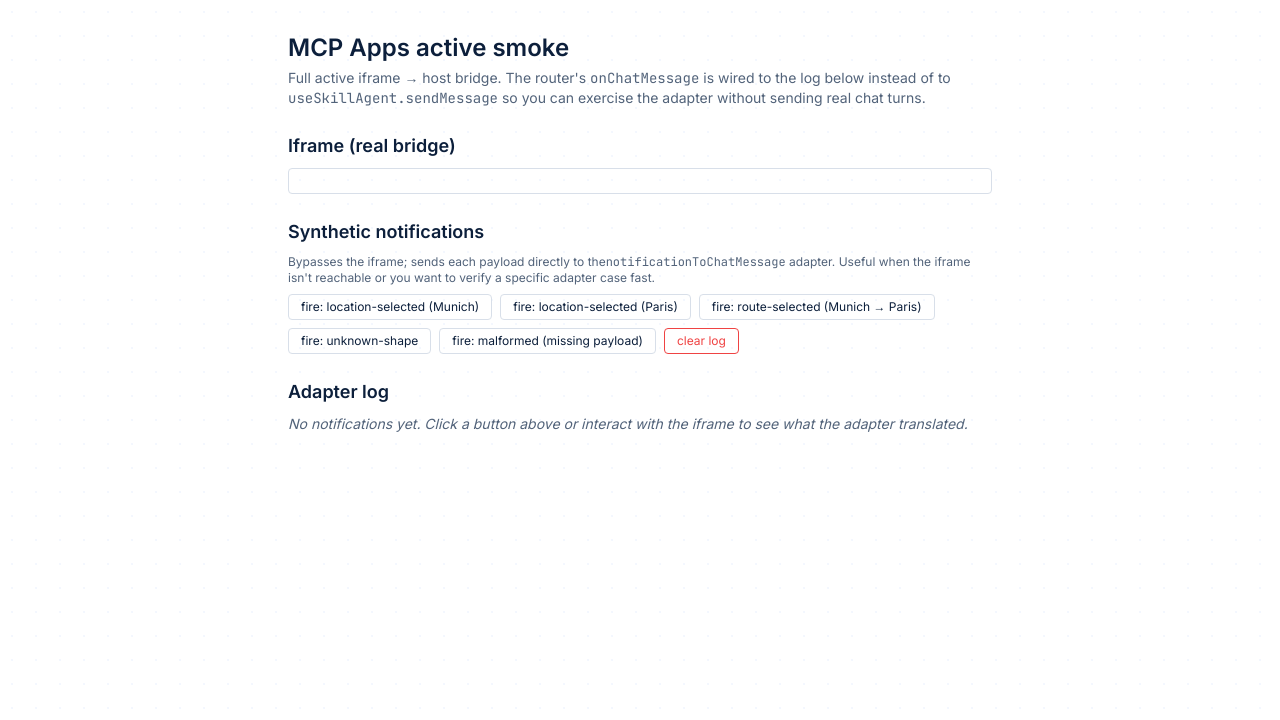
Test case: /dev/mcp-apps/active › location-selected button → adapter translates → 'Tell me more about Munich' in log
This screenshot has width=1280, height=720.
Click the button "fire: location-selected (Munich)".
click(390, 307)  # box [288, 294, 492, 320]
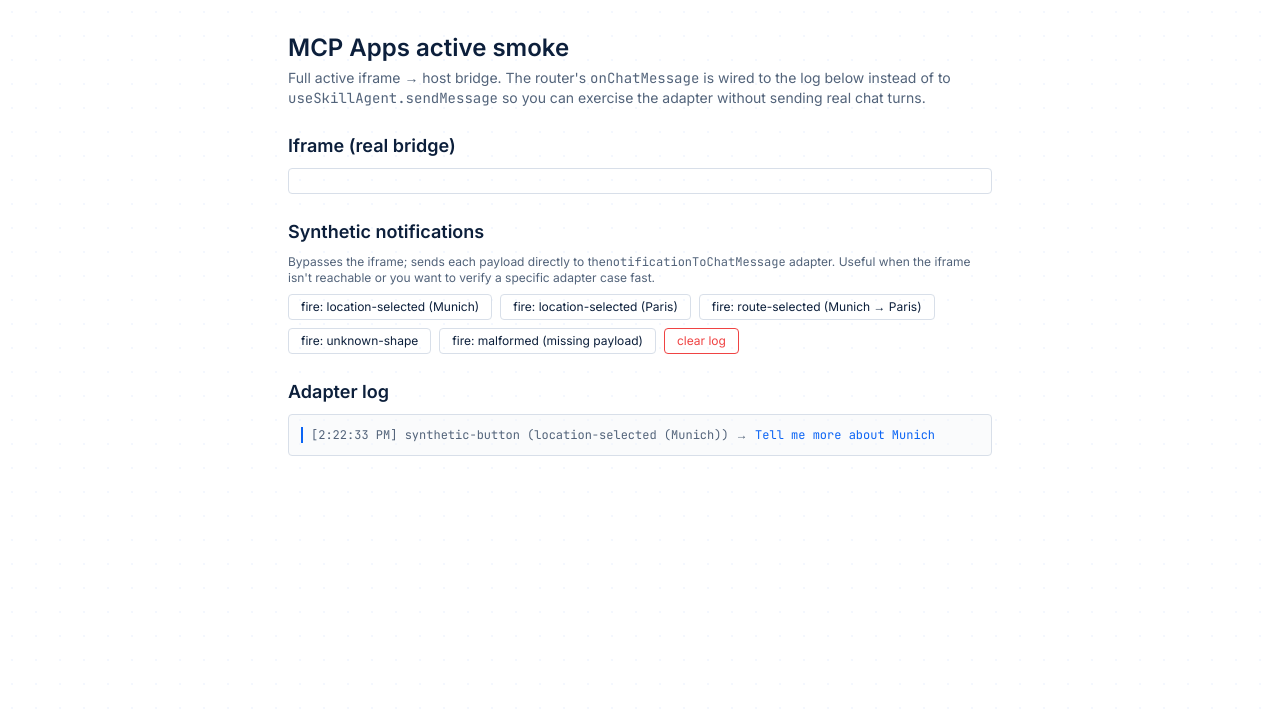
Now the text "Tell me more about Munich" is shown, box [755, 427, 935, 443]
